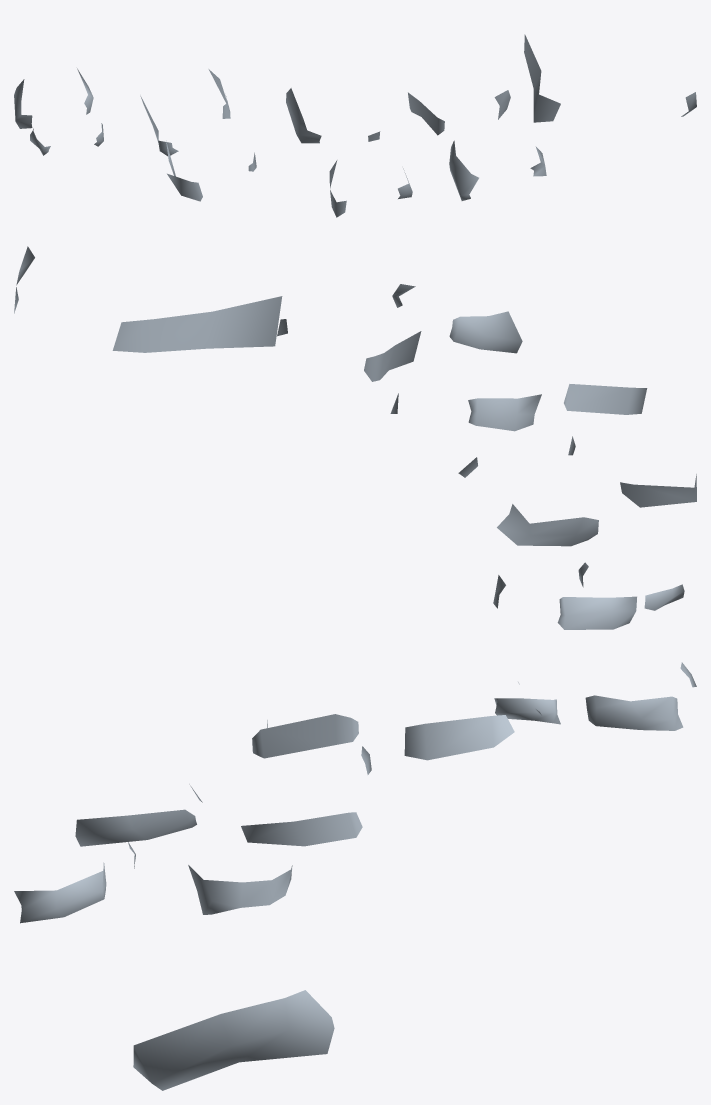
File: collateral-interphalangeal-ligaments-of-foot-r.glb
3 renders of one model, top to bottom at view 1: azimuth 30°, elevation 25°; view 2: azimuth 150°, elevation 25°; view 3: azimuth 270°, elevation 25°, orthographic. The views are drawn at different scales.
Parts seen in each view (by area): view 1: Collateral interphalangeal ligaments of foot.r; view 2: Collateral interphalangeal ligaments of foot.r; view 3: Collateral interphalangeal ligaments of foot.r.
Part boxes in pixels (<box>): Collateral interphalangeal ligaments of foot.r: <box>14,34,696,217</box>; Collateral interphalangeal ligaments of foot.r: <box>14,246,696,629</box>; Collateral interphalangeal ligaments of foot.r: <box>14,662,696,1090</box>.
Bounding box in the file's own units: 0.0782 × 0.00929 × 0.0543.
